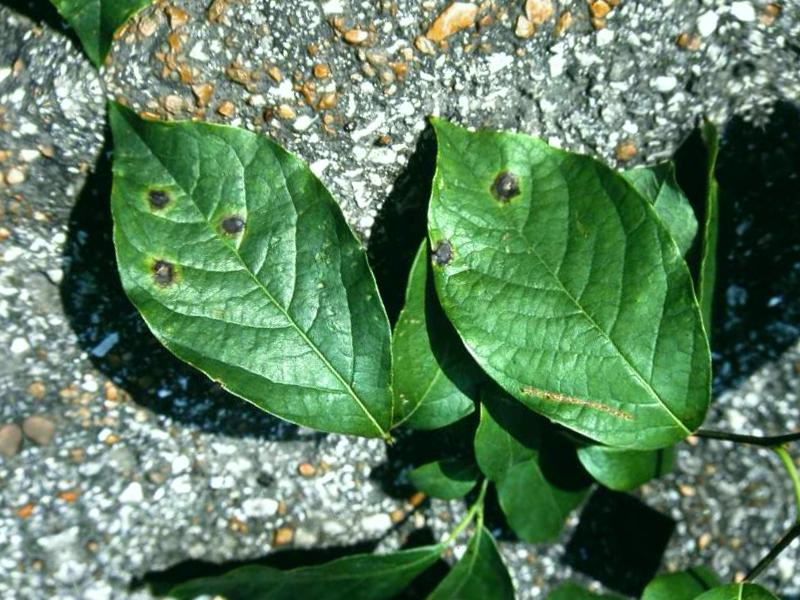Tomato leaf bacterial spot: (30, 22, 434, 516), (362, 42, 746, 509)
